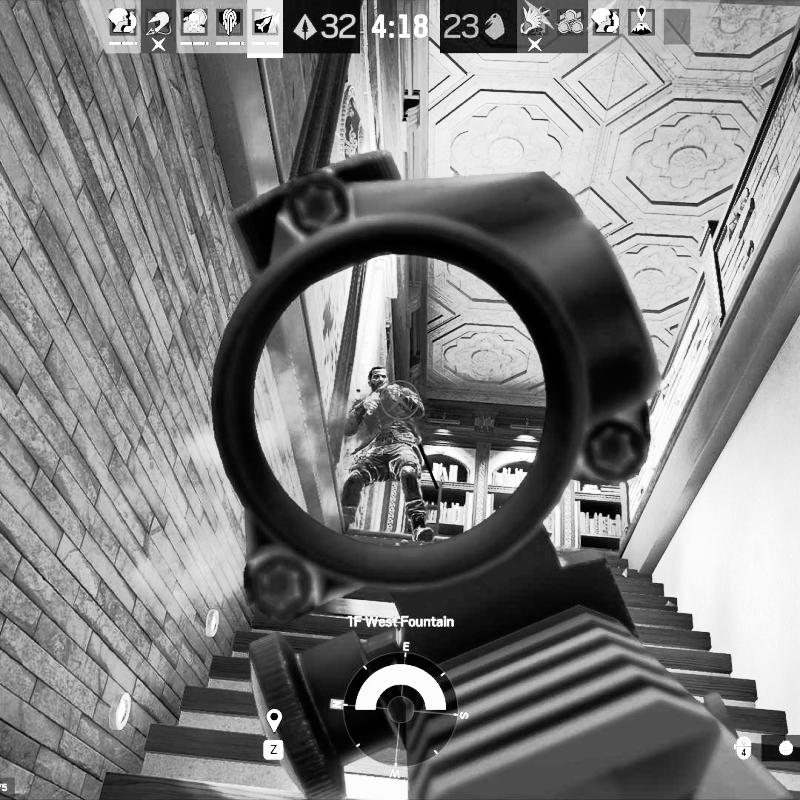Character: (336, 364, 438, 545)
Head: (368, 365, 389, 391)
